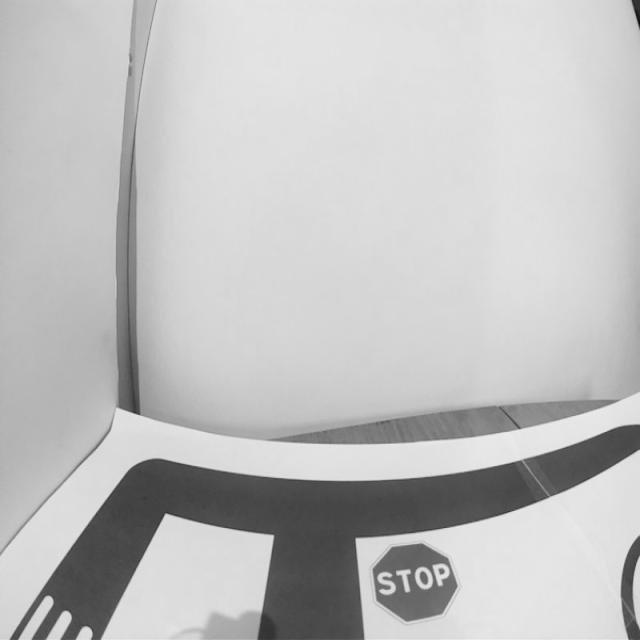stop: (350, 532, 464, 628)
